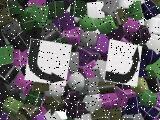Left: (24, 38, 72, 86), (104, 39, 142, 87)
